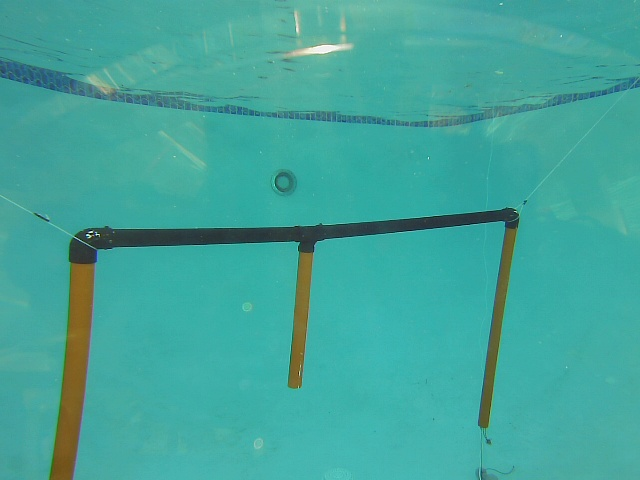Gate: (44, 256, 99, 480), (473, 222, 517, 431), (286, 246, 317, 394)
